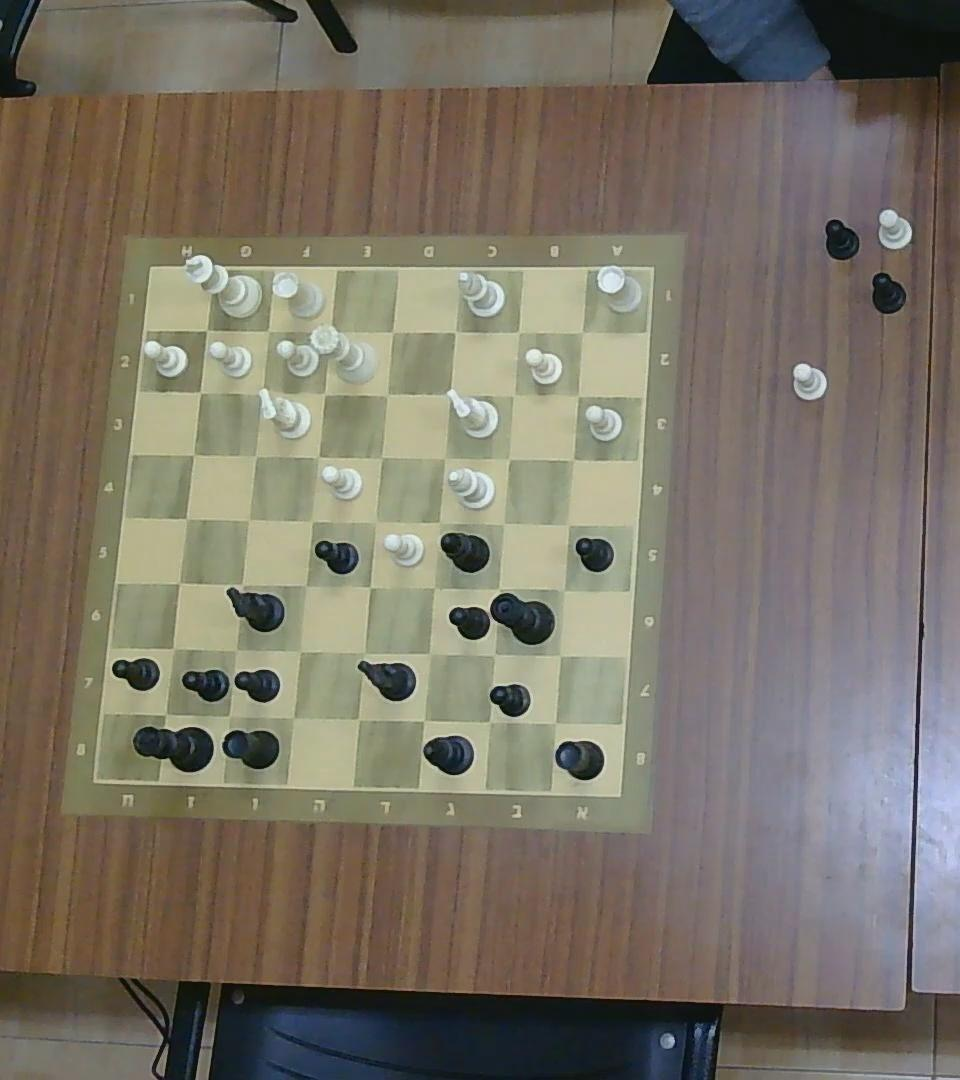xcorner: (215, 702, 242, 728), (153, 701, 178, 725), (477, 710, 502, 734), (281, 705, 305, 729), (350, 639, 374, 663), (288, 639, 311, 663), (162, 637, 185, 661), (412, 708, 435, 732), (347, 707, 370, 730), (542, 711, 566, 733), (167, 571, 190, 593), (318, 321, 341, 343), (175, 507, 197, 529), (182, 443, 204, 464), (438, 382, 459, 404), (360, 576, 380, 598), (363, 511, 385, 531), (423, 576, 443, 598), (197, 318, 217, 339), (493, 512, 513, 533), (483, 644, 504, 664), (231, 575, 252, 595), (428, 512, 448, 533), (239, 509, 259, 529), (370, 447, 390, 467), (246, 445, 266, 465), (225, 639, 245, 659), (258, 320, 278, 340), (420, 644, 440, 664), (383, 322, 403, 342), (252, 381, 272, 401), (499, 448, 518, 469), (302, 509, 321, 530), (376, 384, 395, 405), (296, 575, 315, 595), (445, 322, 464, 342), (559, 515, 578, 534), (564, 449, 583, 468), (504, 385, 523, 404), (550, 645, 569, 664), (489, 579, 508, 598), (435, 447, 453, 467), (510, 321, 528, 340), (308, 447, 326, 466), (570, 385, 588, 404), (315, 384, 333, 402), (190, 382, 208, 400), (573, 323, 591, 341), (555, 581, 573, 599)
